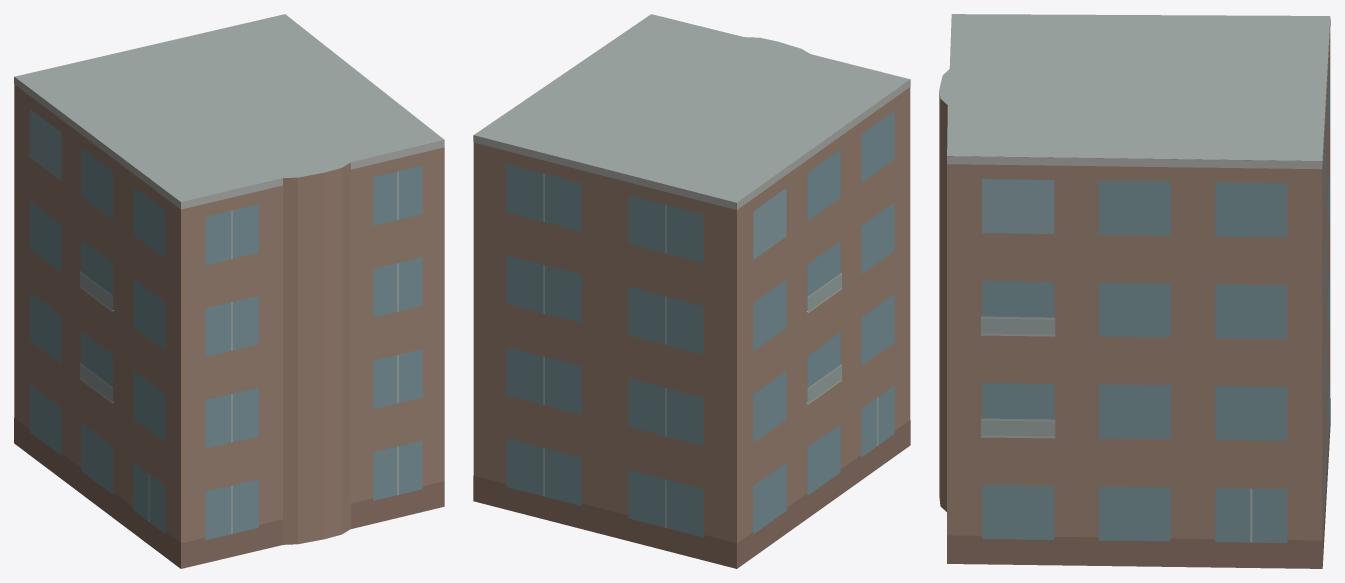
The model's file is survey-upis-32605416.glb.
The picture shows the model from 3 angles, left to right: view 1: azimuth 30°, elevation 25°; view 2: azimuth 150°, elevation 25°; view 3: azimuth 270°, elevation 25°; orthographic projection. The views are drawn at different scales.
Visible parts, largest first — view 1: survey-upis-32605416.tmp; view 2: survey-upis-32605416.tmp; view 3: survey-upis-32605416.tmp.
Part boxes in pixels (box(x1,y1,x2,y2)): survey-upis-32605416.tmp: box(14, 14, 444, 568); survey-upis-32605416.tmp: box(473, 14, 910, 568); survey-upis-32605416.tmp: box(939, 14, 1330, 568).
Bounding box in the file's own units: 9.44 × 12.2 × 10.61.
